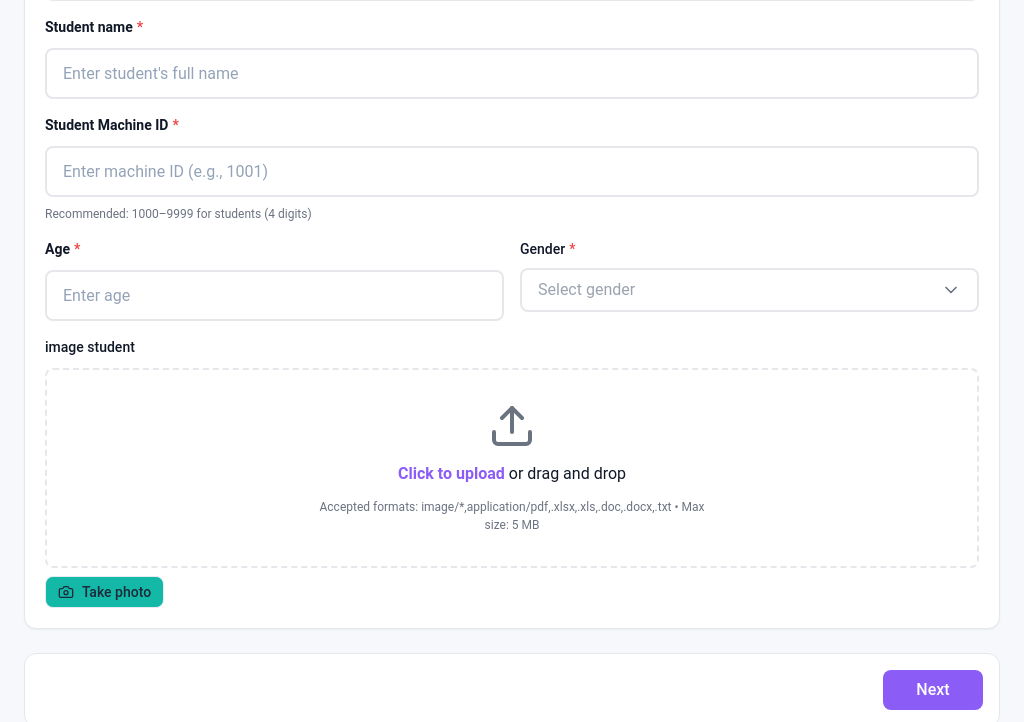
Test: CreateRegisterStudent - Multi-step Form › Multi-step Navigation › should show validation errors when trying to proceed with incomplete data
(page scrolled)
# Try to click Next without filling required fields
Click the button "Next" at [933, 690], box [883,670,983,710]
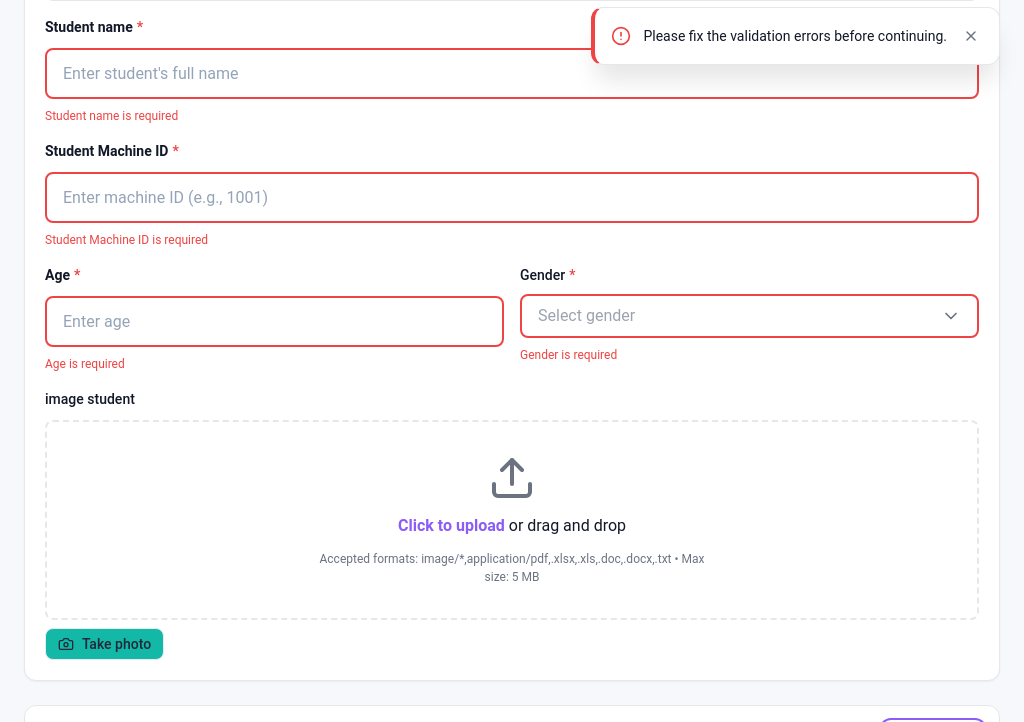
Expected: the text "Please fix the validation errors before continuing." is shown, [643,26,947,46]
